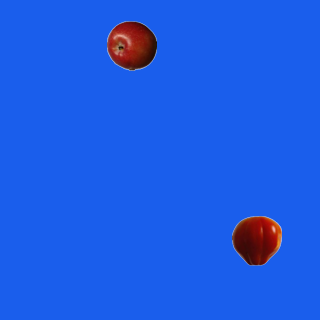Apple Braeburn: (106, 20, 156, 70)
Tomato 1: (231, 215, 281, 265)
